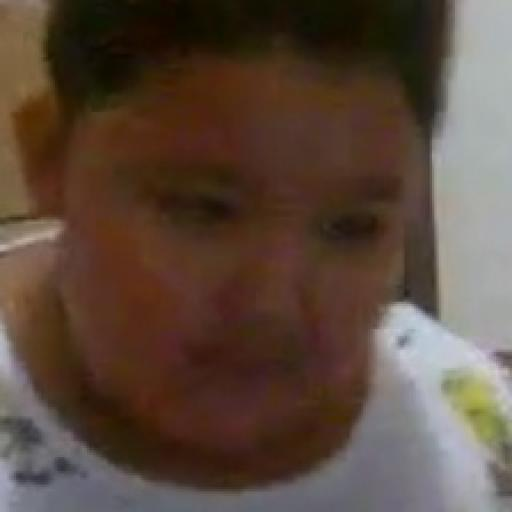Autism: (41, 20, 401, 480)
